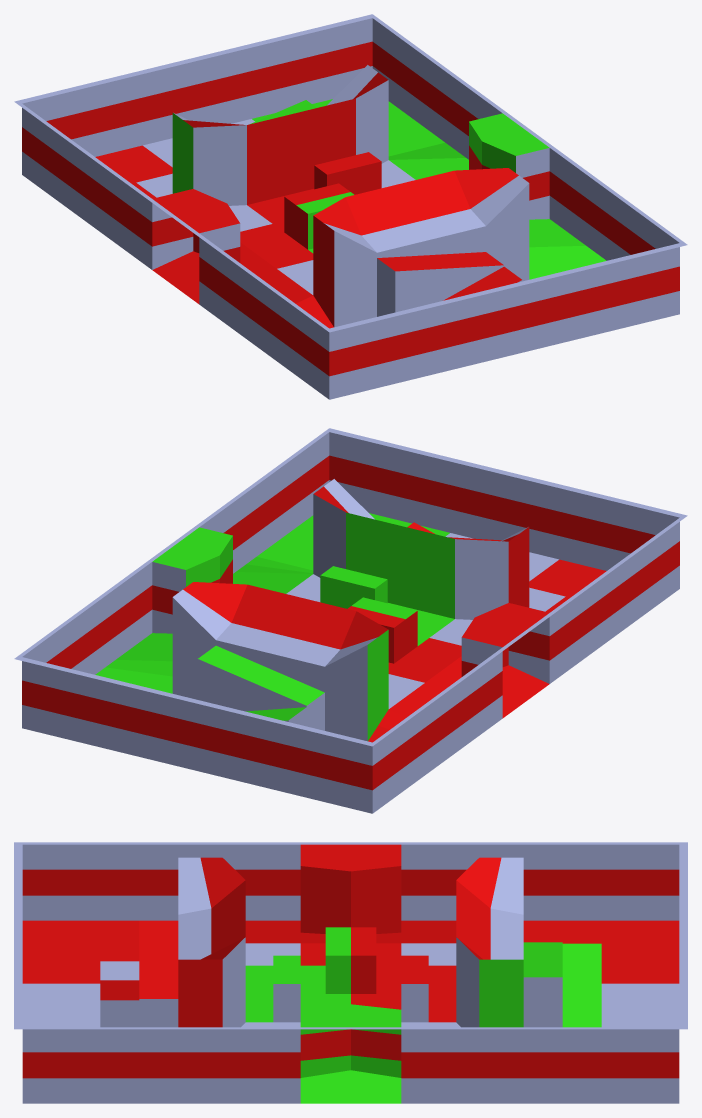
3 views of the same model, one above another, from view 1: azimuth 30°, elevation 25°; view 2: azimuth 150°, elevation 25°; view 3: azimuth 270°, elevation 25° (orthographic). The views are drawn at different scales.
Visible parts, largest first — view 1: Plane_0; view 2: Plane_0; view 3: Plane_0.
Boxes of the visible parts, box(x1,y1,x2,y2) form: Plane_0: box(14, 14, 687, 399); Plane_0: box(14, 428, 687, 813); Plane_0: box(14, 842, 687, 1103).
Bounding box in the file's own units: 11.82 × 3.05 × 18.01.
